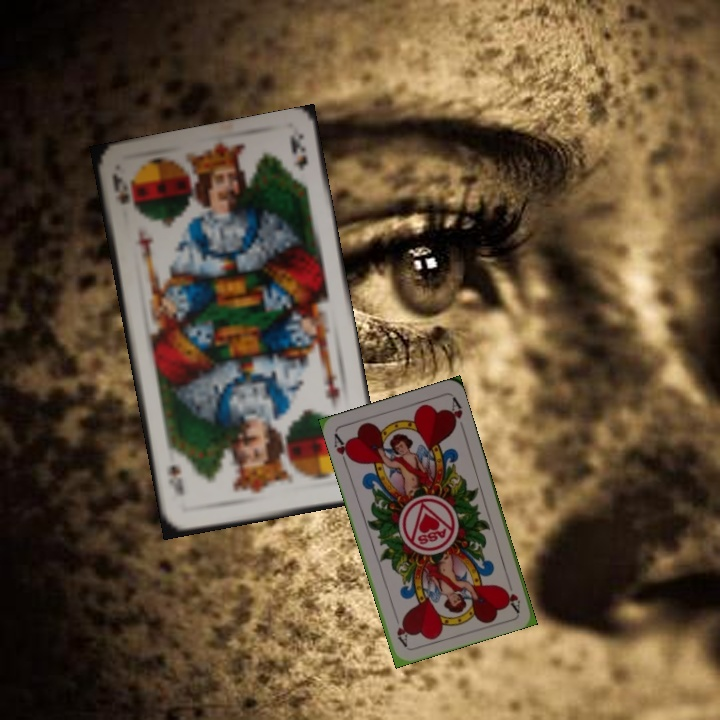HA: (330, 429, 355, 469), (501, 584, 523, 613)
SK: (108, 169, 132, 207)
